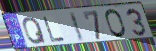3: (125, 6, 148, 37)
7: (82, 9, 102, 42)
I: (68, 11, 85, 43)
L: (42, 15, 67, 43)
O: (104, 8, 128, 40)
Q: (22, 16, 48, 46)
